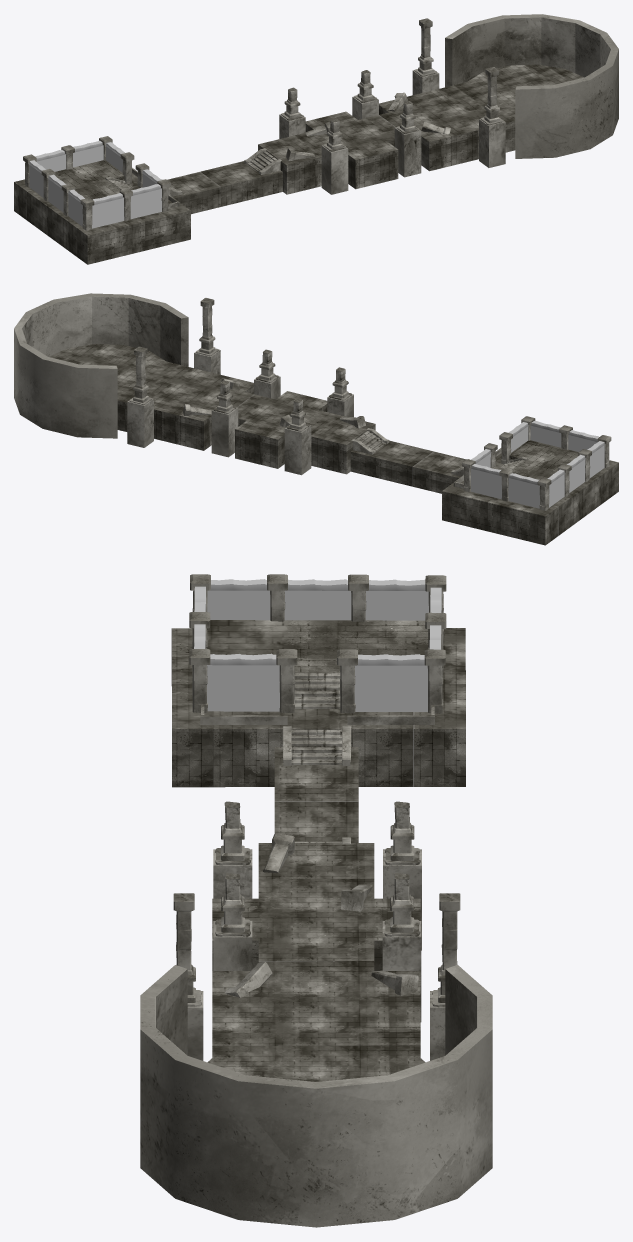
Rendered from Level8.fbx.
3 renders of one model, top to bottom at view 1: azimuth 30°, elevation 25°; view 2: azimuth 150°, elevation 25°; view 3: azimuth 270°, elevation 25°, orthographic. The views are drawn at different scales.
Parts seen in each view (by area): view 1: Wall (×2), Base, Base1, pCube4 (×6), Bridge_ish, Base2, Broken_Pillar3 (×4), Full_Pillar (×2), Wall4, Wall6, Wall9, Wall10 (+3 smaller); view 2: Wall (×2), Base, Base1, pCube4 (×6), Bridge_ish, Broken_Pillar3 (×4), Base2, Full_Pillar (×2), Wall9, Wall6, Wall4, Wall10 (+3 smaller); view 3: Wall, Base, Base1, Base2, pCube4 (×6), Bridge_ish, Broken_Pillar3 (×4), Wall2, Wall5, Stair2 (×2), Full_Pillar (×2), Wall10 (+8 smaller).
Boxes of the visible parts, left/top/right/bottom form: Wall (×2): left=130, top=14, right=618, bottom=219; Base: left=258, top=64, right=583, bottom=194; Base1: left=14, top=173, right=190, bottom=264; pCube4 (×6): left=279, top=70, right=505, bottom=194; Bridge_ish: left=167, top=161, right=282, bottom=214; Base2: left=55, top=160, right=140, bottom=199; Broken_Pillar3 (×4): left=281, top=70, right=419, bottom=151; Full_Pillar (×2): left=414, top=18, right=503, bottom=125; Wall4: left=92, top=193, right=124, bottom=228; Wall6: left=73, top=140, right=103, bottom=167; Wall9: left=35, top=150, right=65, bottom=171; Wall10: left=48, top=174, right=66, bottom=212; Wall (×2): left=14, top=293, right=561, bottom=447; Base: left=49, top=344, right=375, bottom=474; Base1: left=442, top=453, right=618, bottom=545; pCube4 (×6): left=127, top=349, right=353, bottom=475; Bridge_ish: left=350, top=440, right=465, bottom=493; Broken_Pillar3 (×4): left=213, top=349, right=351, bottom=431; Base2: left=490, top=440, right=578, bottom=479; Full_Pillar (×2): left=129, top=298, right=218, bottom=404; Wall9: left=508, top=473, right=539, bottom=508; Wall6: left=471, top=464, right=501, bottom=499; Wall4: left=568, top=430, right=598, bottom=451; Wall10: left=567, top=454, right=585, bottom=492; Wall: left=140, top=965, right=492, bottom=1227; Base: left=207, top=843, right=425, bottom=1081; Base1: left=171, top=628, right=465, bottom=787; Base2: left=207, top=620, right=428, bottom=672; pCube4 (×6): left=187, top=849, right=445, bottom=1060; Bridge_ish: left=274, top=747, right=358, bottom=842; Broken_Pillar3 (×4): left=215, top=801, right=420, bottom=936; Wall2: left=207, top=653, right=279, bottom=711; Wall5: left=354, top=654, right=427, bottom=711; Stair2 (×2): left=291, top=672, right=341, bottom=764; Full_Pillar (×2): left=173, top=893, right=460, bottom=1006; Wall10: left=284, top=579, right=351, bottom=620.
Size of the model in its own units: 117 by 18.79 by 32.13.
